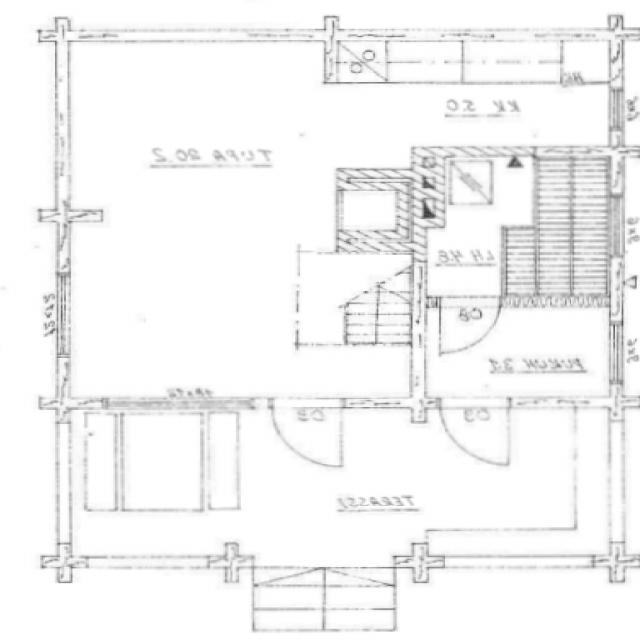door: (273, 398, 342, 467), (440, 398, 508, 467), (440, 296, 500, 358)
